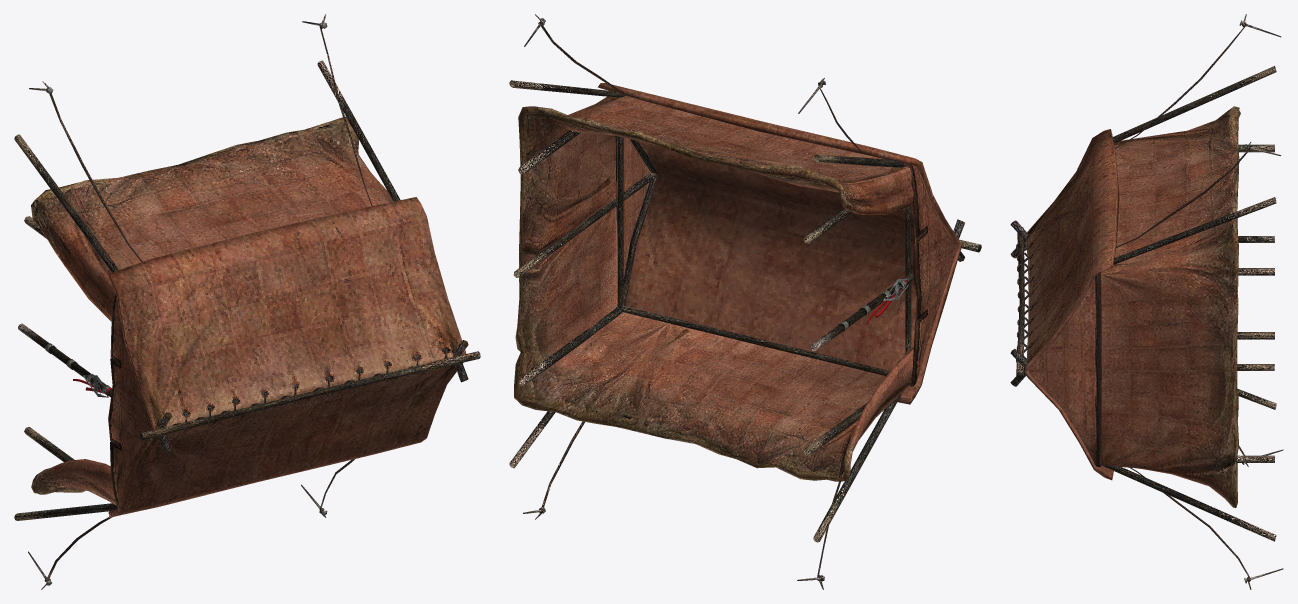
Rendered from tent.gltf.
The picture shows the model from 3 angles, left to right: view 1: azimuth 30°, elevation 25°; view 2: azimuth 150°, elevation 25°; view 3: azimuth 270°, elevation 25°; orthographic projection. The views are drawn at different scales.
Parts seen in each view (by area): view 1: tent; view 2: tent; view 3: tent.
Part boxes in pixels (x1,y1,x2,y2): tent: (14, 14, 480, 589); tent: (509, 14, 981, 589); tent: (1010, 14, 1283, 589).
Bounding box in the file's own units: 5.13 × 7.3 × 3.98.
1 material, 1 textured.
